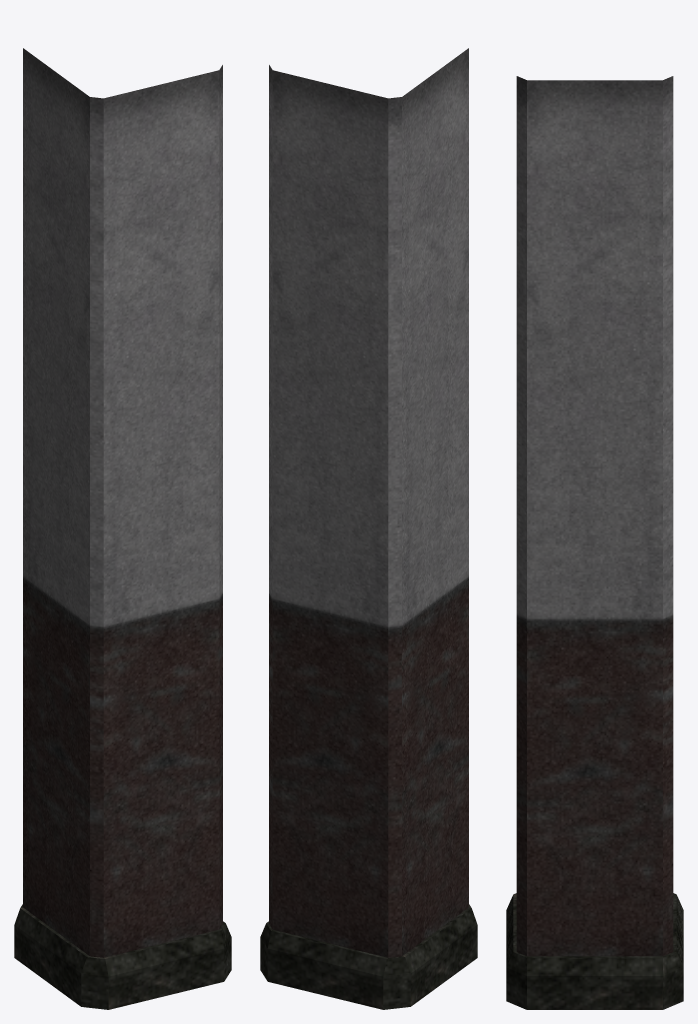
The picture shows the model from 3 angles, left to right: view 1: azimuth 30°, elevation 25°; view 2: azimuth 150°, elevation 25°; view 3: azimuth 270°, elevation 25°; orthographic projection.
Visible parts, largest first — view 1: column_1; view 2: column_1; view 3: column_1.
Boxes of the visible parts, bbox=[...] form: column_1: bbox=[14, 48, 231, 1009]; column_1: bbox=[260, 48, 477, 1009]; column_1: bbox=[506, 76, 683, 1009].
Size of the model in its own units: 0.52 by 3 by 0.52.
4 materials, 4 textured.
